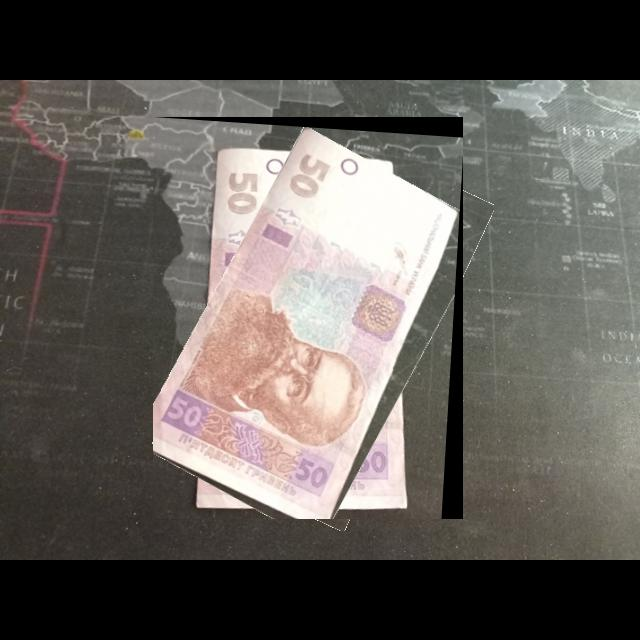50uah: (153, 125, 460, 520)
